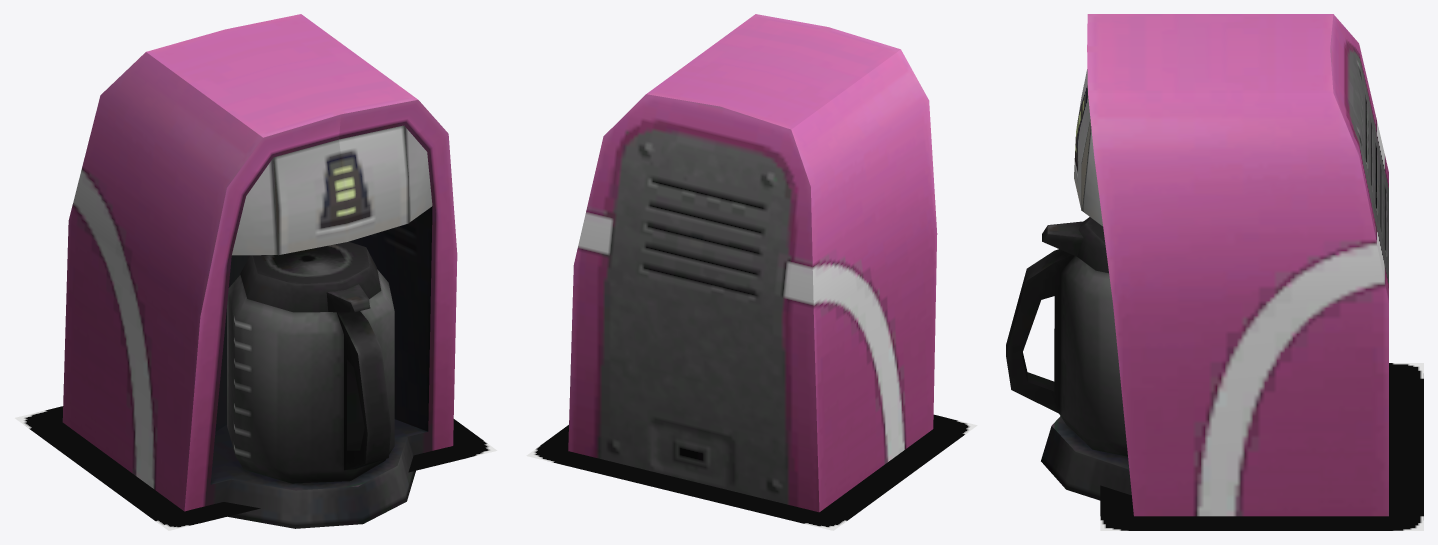
File: jj_ty_shuihu01.FBX
The picture shows the model from 3 angles, left to right: view 1: azimuth 30°, elevation 25°; view 2: azimuth 150°, elevation 25°; view 3: azimuth 270°, elevation 25°; orthographic projection. The views are drawn at different scales.
Visible parts, largest first — view 1: jj_ty_shuihu01, shadow; view 2: jj_ty_shuihu01, shadow; view 3: jj_ty_shuihu01, shadow.
Part boxes in pixels (left/top/right/bottom): jj_ty_shuihu01: left=62, top=14, right=457, bottom=528; shadow: left=15, top=406, right=497, bottom=530; jj_ty_shuihu01: left=568, top=14, right=937, bottom=512; shadow: left=526, top=414, right=977, bottom=530; jj_ty_shuihu01: left=1006, top=14, right=1388, bottom=516; shadow: left=1100, top=363, right=1423, bottom=530.
Size of the model in its own units: 34.87 by 39.89 by 36.63.
